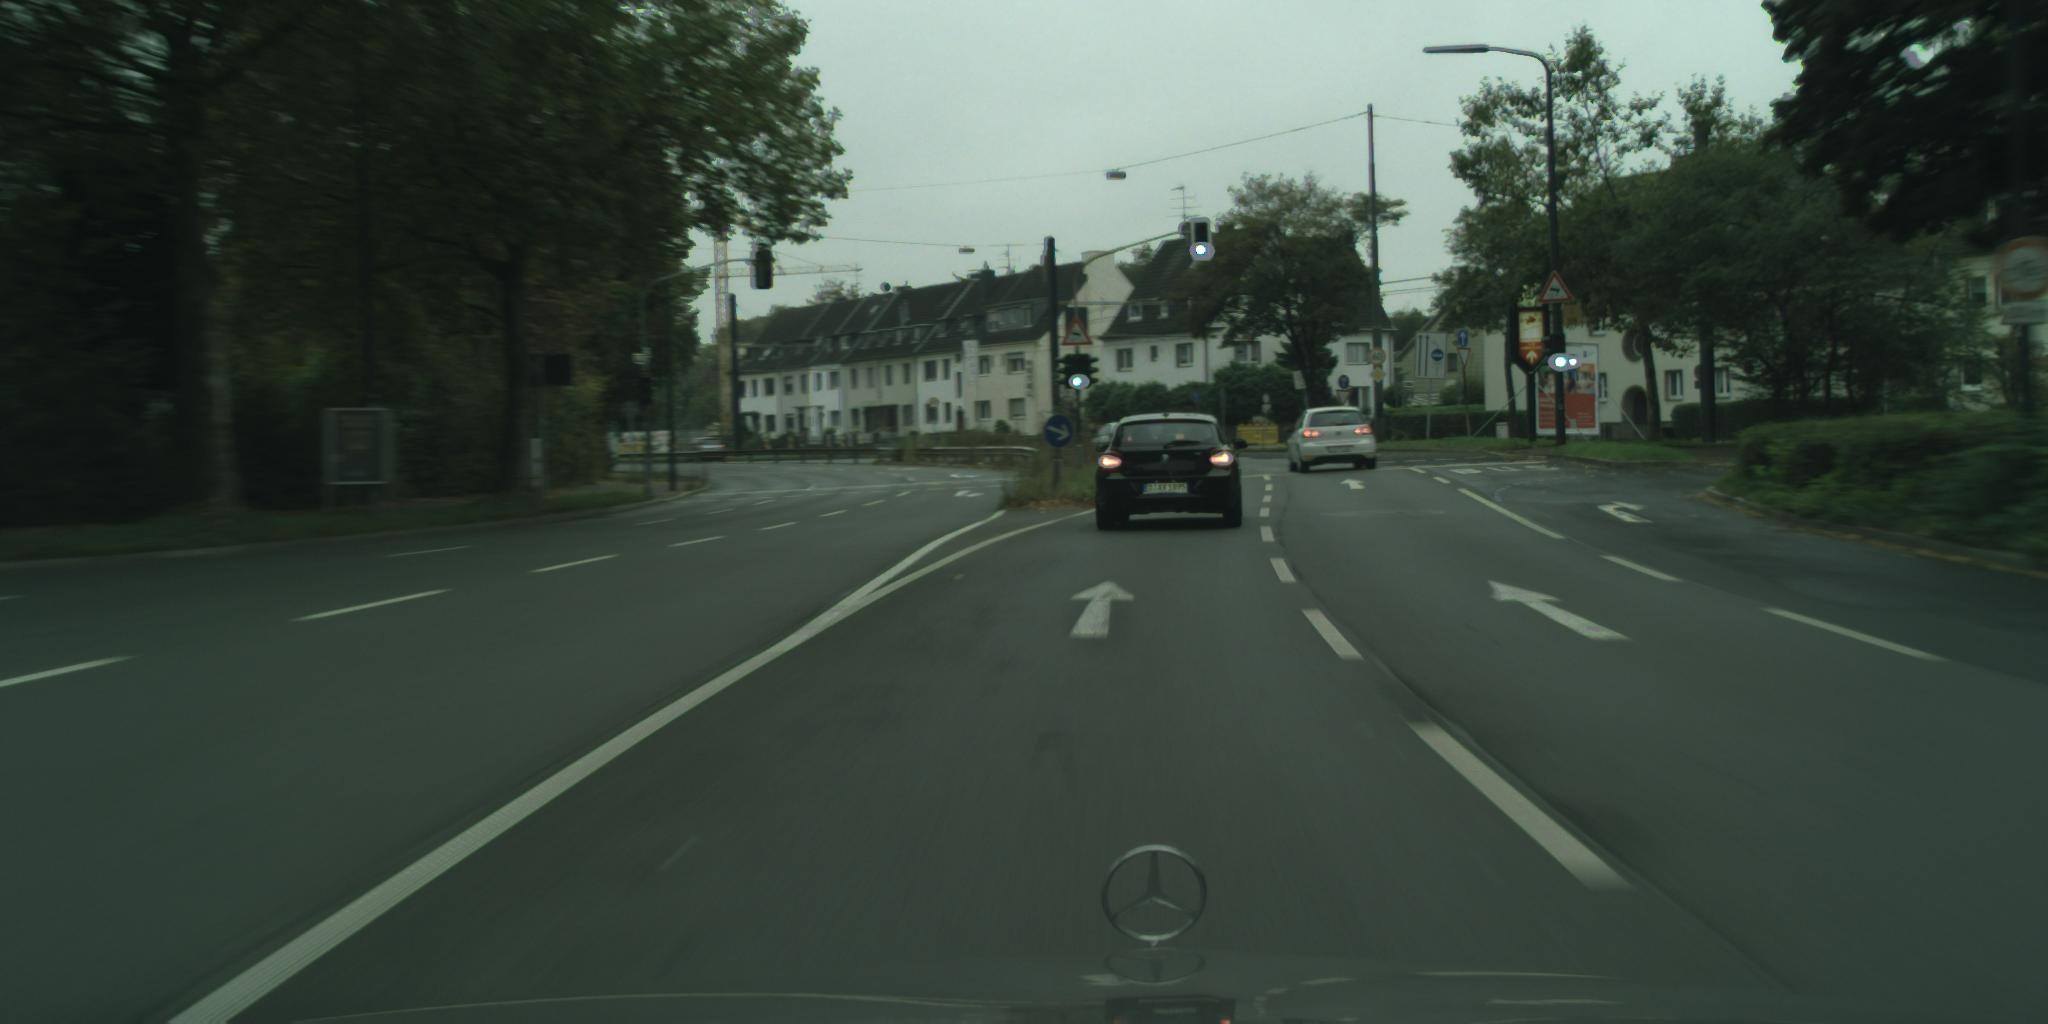car: (1095, 413, 1249, 532), (1287, 406, 1379, 474), (1088, 422, 1125, 455), (683, 438, 729, 460)
